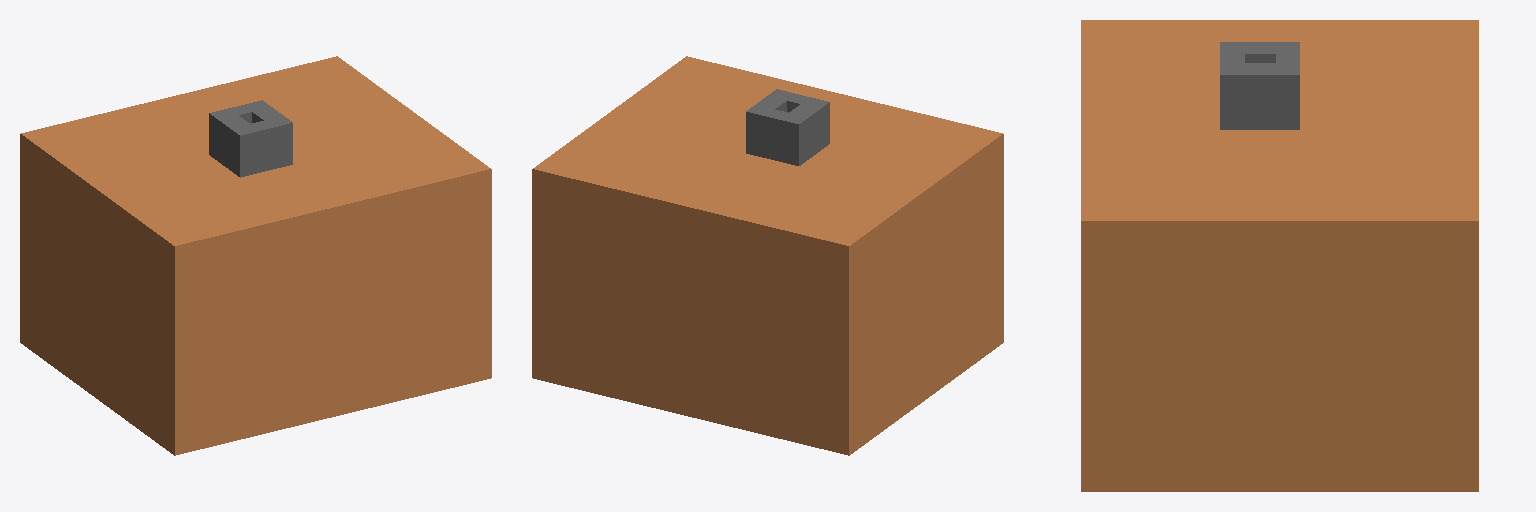
URDF robot description (peg_in_hole_tolerances_scenes_val_scene_0009_tol07):
<?xml version="1.0"?>
<robot name="peg_in_hole_tolerances_scenes_val_scene_0009_tol07">
  <material name="wood"><color rgba="0.82 0.56 0.35 1.0"/></material>
  <material name="hole_grey"><color rgba="0.4706 0.4706 0.4706 1.0"/></material>
  <link name="box">
    <visual>
      <origin xyz="0.000000 0.000000 0.000000" rpy="0 0 0"/>
      <geometry><box size="0.475000 0.400000 0.300000"/></geometry>
      <material name="wood"/>
    </visual>
    <collision>
      <origin xyz="0.000000 0.000000 0.000000" rpy="0 0 0"/>
      <geometry><box size="0.475000 0.400000 0.300000"/></geometry>
    </collision>
    <visual>
      <origin xyz="-0.018497 -0.019793 0.155000" rpy="0 0 0"/>
      <geometry><box size="0.080000 0.080000 0.010000"/></geometry>
      <material name="hole_grey"/>
    </visual>
    <collision>
      <origin xyz="-0.018497 -0.019793 0.155000" rpy="0 0 0"/>
      <geometry><box size="0.080000 0.080000 0.010000"/></geometry>
    </collision>
    <visual>
      <origin xyz="0.006693 -0.019793 0.185000" rpy="0 0 0"/>
      <geometry><box size="0.029621 0.080000 0.050000"/></geometry>
      <material name="hole_grey"/>
    </visual>
    <collision>
      <origin xyz="0.006693 -0.019793 0.185000" rpy="0 0 0"/>
      <geometry><box size="0.029621 0.080000 0.050000"/></geometry>
    </collision>
    <visual>
      <origin xyz="-0.043686 -0.019793 0.185000" rpy="0 0 0"/>
      <geometry><box size="0.029621 0.080000 0.050000"/></geometry>
      <material name="hole_grey"/>
    </visual>
    <collision>
      <origin xyz="-0.043686 -0.019793 0.185000" rpy="0 0 0"/>
      <geometry><box size="0.029621 0.080000 0.050000"/></geometry>
    </collision>
    <visual>
      <origin xyz="-0.018497 0.007896 0.185000" rpy="0 0 0"/>
      <geometry><box size="0.020758 0.024621 0.050000"/></geometry>
      <material name="hole_grey"/>
    </visual>
    <collision>
      <origin xyz="-0.018497 0.007896 0.185000" rpy="0 0 0"/>
      <geometry><box size="0.020758 0.024621 0.050000"/></geometry>
    </collision>
    <visual>
      <origin xyz="-0.018497 -0.047483 0.185000" rpy="0 0 0"/>
      <geometry><box size="0.020758 0.024621 0.050000"/></geometry>
      <material name="hole_grey"/>
    </visual>
    <collision>
      <origin xyz="-0.018497 -0.047483 0.185000" rpy="0 0 0"/>
      <geometry><box size="0.020758 0.024621 0.050000"/></geometry>
    </collision>
    <inertial>
      <mass value="500"/>
      <friction value="1.0"/>
      <inertia ixx="1000.0" ixy="0.0" ixz="0.0" iyy="1000.0" iyz="0.0" izz="1000.0"/>
    </inertial>
  </link>
</robot>

--- Facts derived from the render (not from the file) ---
The picture shows the robot from 3 angles, left to right: view 1: azimuth 30°, elevation 25°; view 2: azimuth 150°, elevation 25°; view 3: azimuth 270°, elevation 25°; orthographic projection.
Robot: peg_in_hole_tolerances_scenes_val_scene_0009_tol07 — 1 links, 0 joints (none); root link box; default pose: all joints at 0.
Visible links, largest first — view 1: box; view 2: box; view 3: box.
Link boxes in pixels (bbox=[...]): box: bbox=[20, 56, 491, 455]; box: bbox=[532, 56, 1003, 455]; box: bbox=[1081, 20, 1478, 491].
Bounding box of the posed robot: 0.475 × 0.4 × 0.36 m (x, y, z).
Geometry: primitives only (box / cylinder / sphere), no mesh files.
